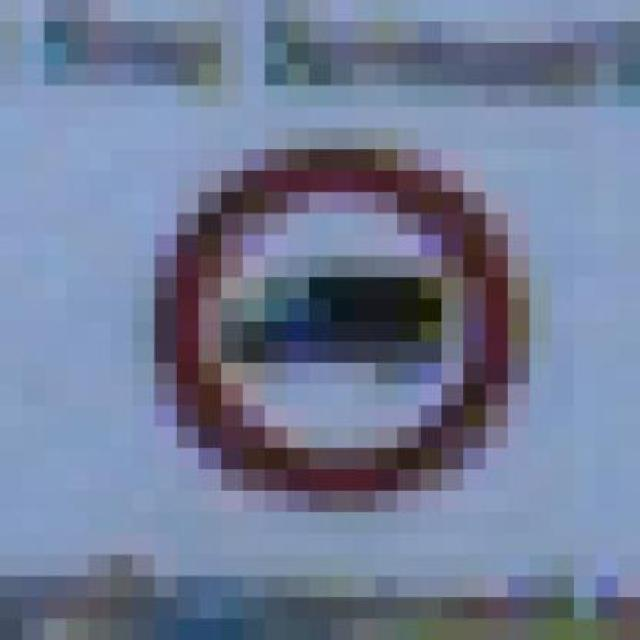Truck traffic is prohibited: (110, 128, 552, 534)
